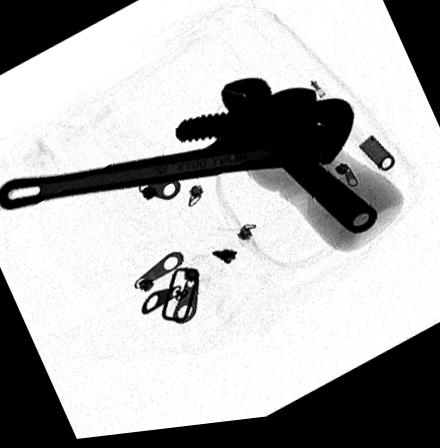Wrench: (0, 92, 355, 210), (219, 83, 378, 243)
